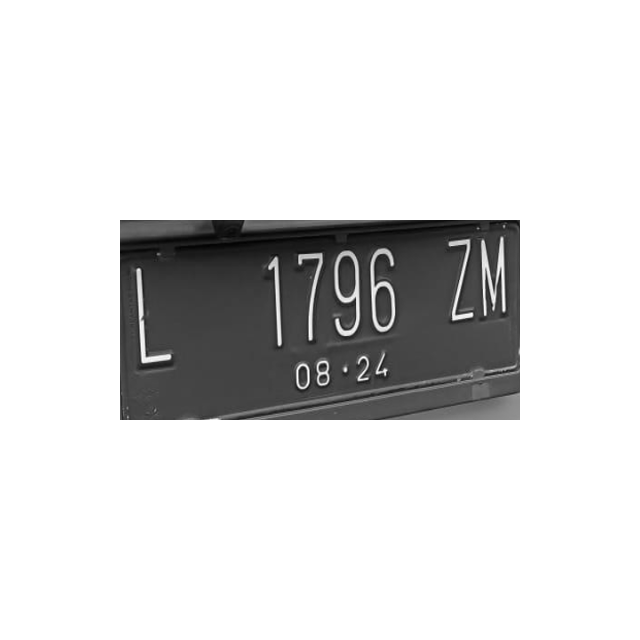contain: (133, 258, 177, 374), (247, 249, 292, 354), (290, 244, 331, 350), (328, 240, 369, 346), (364, 237, 405, 343), (441, 230, 477, 328), (476, 229, 512, 327)
